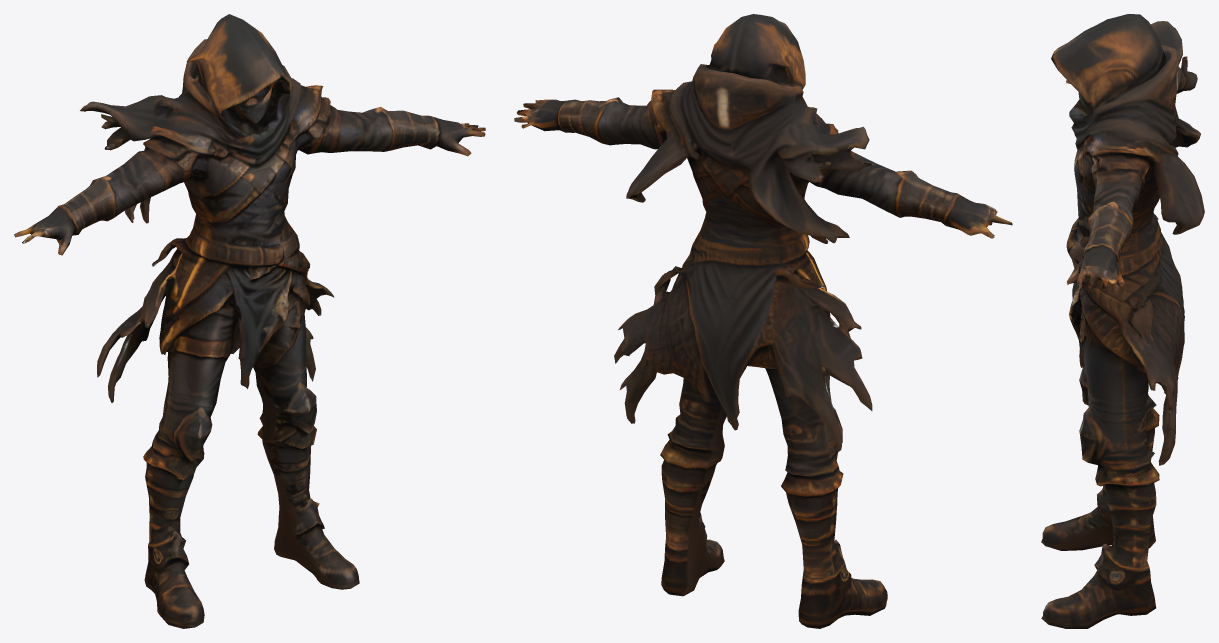
Rendered from base_basic_shaded.fbx.
3 renders of one model, left to right at view 1: azimuth 30°, elevation 25°; view 2: azimuth 150°, elevation 25°; view 3: azimuth 270°, elevation 25°, orthographic. The views are drawn at different scales.
Parts seen in each view (by area): view 1: model; view 2: model; view 3: model.
Part boxes in pixels (box(x1,y1,x2,y2)): model: box(14, 14, 485, 628); model: box(514, 14, 1012, 628); model: box(1041, 14, 1204, 628).
Size of the model in its own units: 164 by 189 by 49.22.
